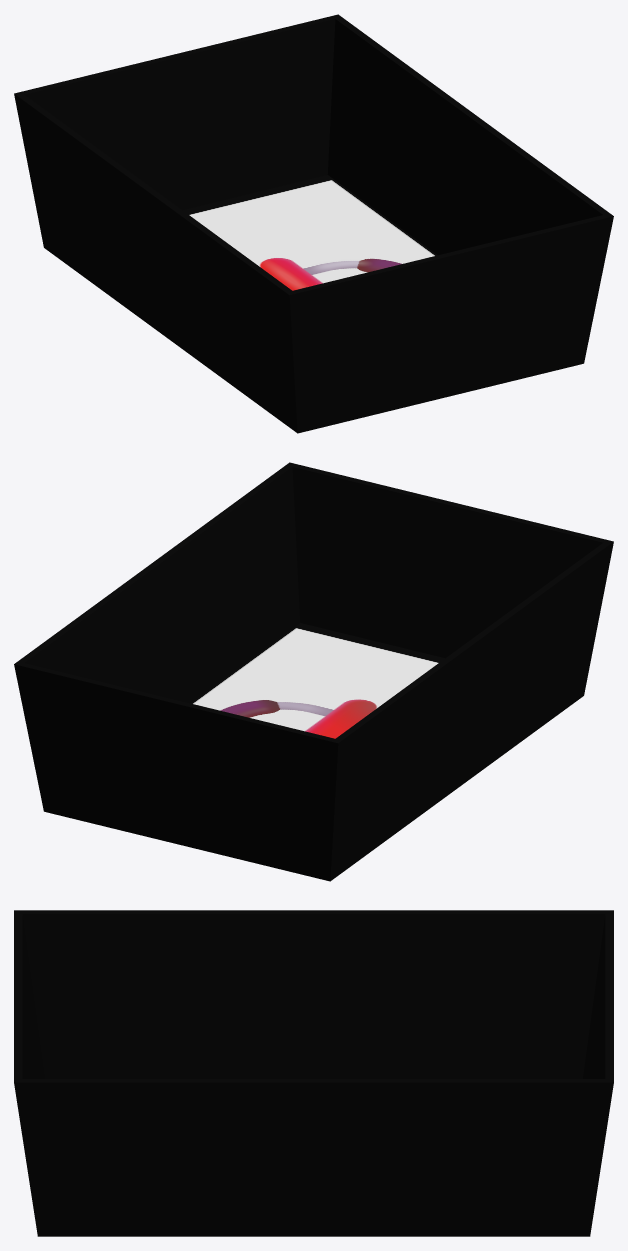
3 renders of one model, top to bottom at view 1: azimuth 30°, elevation 25°; view 2: azimuth 150°, elevation 25°; view 3: azimuth 270°, elevation 25°, orthographic. The views are drawn at different scales.
Parts seen in each view (by area): view 1: Basket1; view 2: Basket1; view 3: Basket1.
Boxes of the visible parts, x1=… form: Basket1: x1=14, y1=14, x2=613, y2=433; Basket1: x1=14, y1=462, x2=613, y2=881; Basket1: x1=14, y1=910, x2=613, y2=1236.
Size of the model in its own units: 0.1829 by 0.2692 by 0.0813.
Materials: 1 (1 with a texture image).
